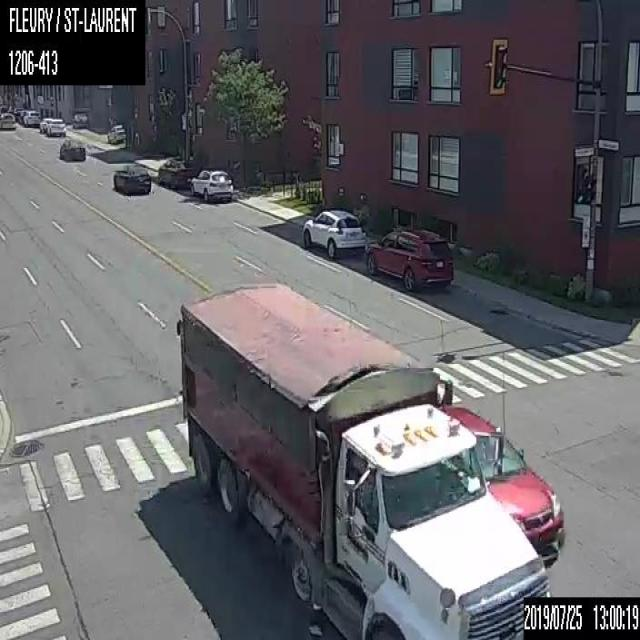vehicle: (173, 282, 555, 638), (440, 405, 564, 567), (364, 224, 454, 292), (300, 209, 364, 259), (189, 168, 232, 203), (112, 160, 150, 196), (157, 157, 196, 189), (60, 136, 85, 161), (106, 121, 125, 144), (45, 116, 65, 136), (71, 109, 87, 128), (23, 109, 39, 127), (0, 111, 15, 128), (39, 116, 45, 132)
